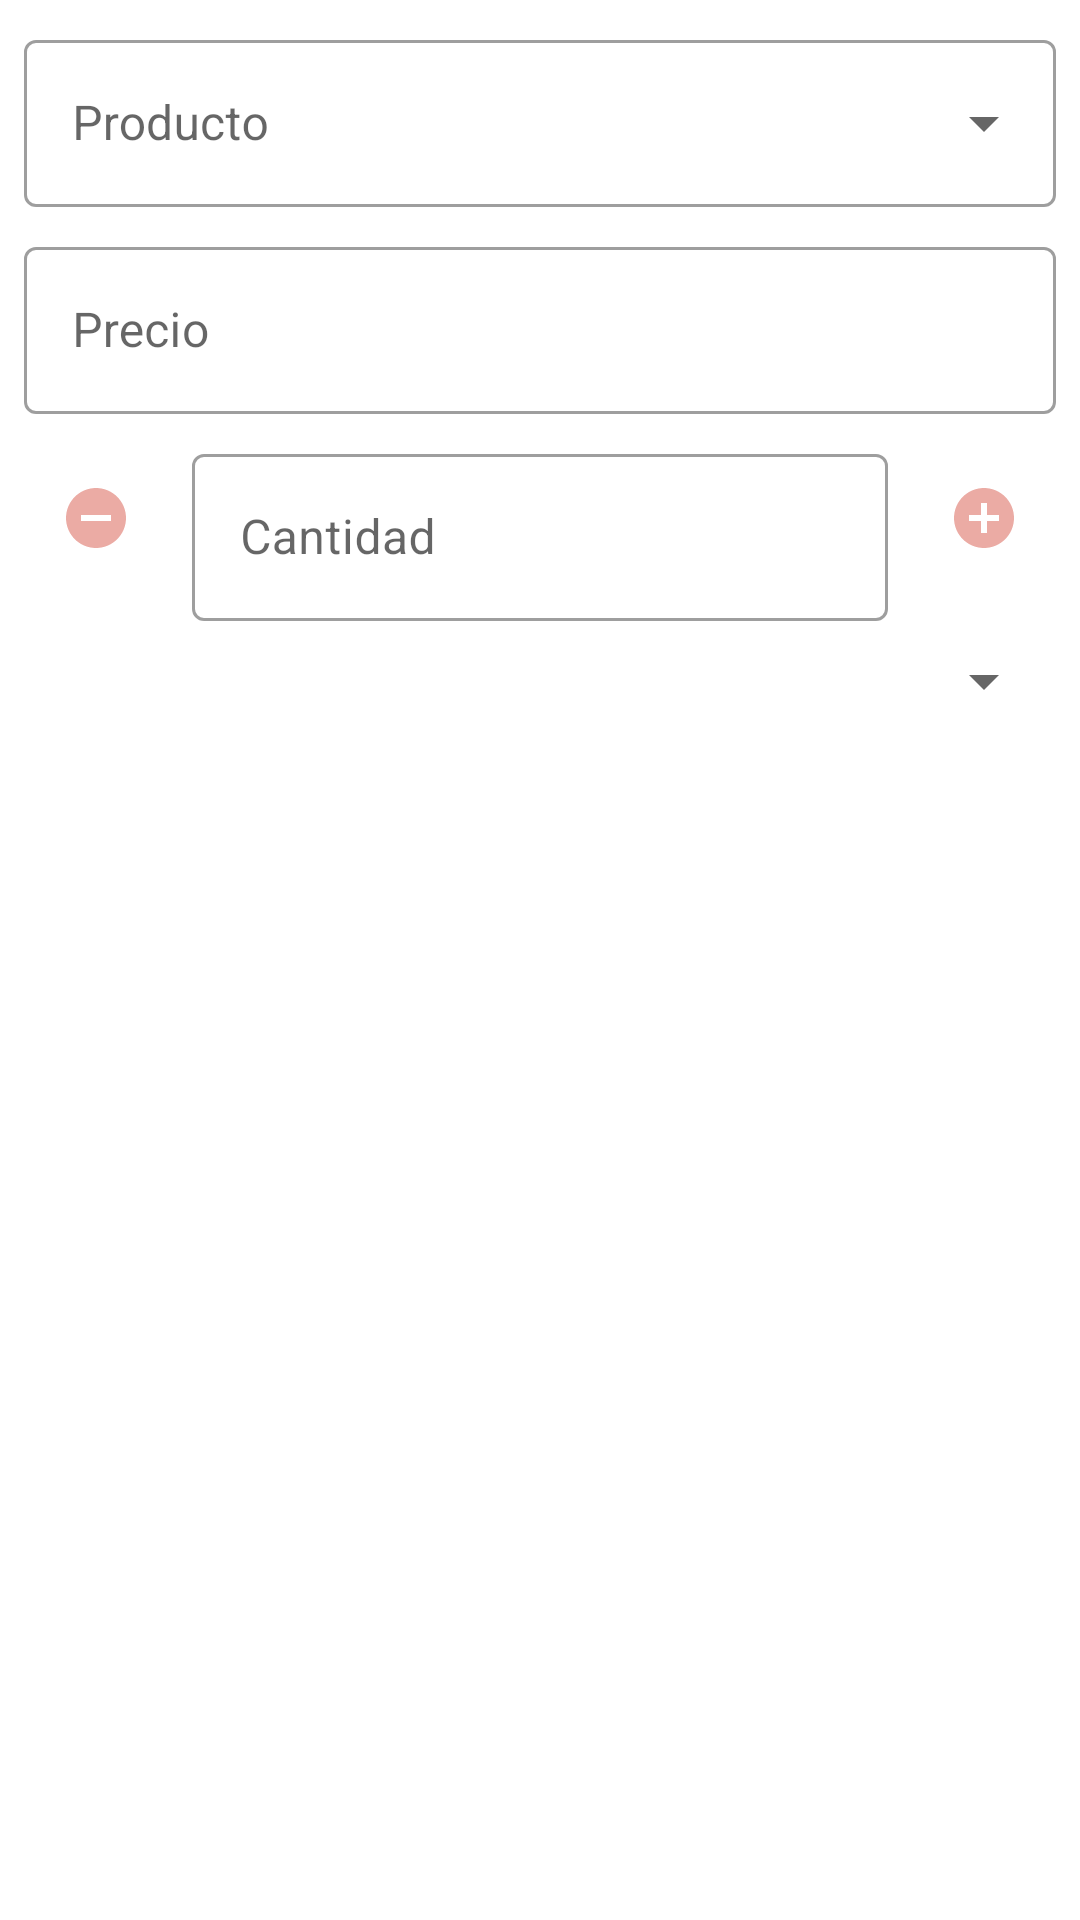

Icons on this 1080px x 1920px Android screen, each with the point to tap as point (x, y):
add: point (984, 518)
neg: point (96, 518)
